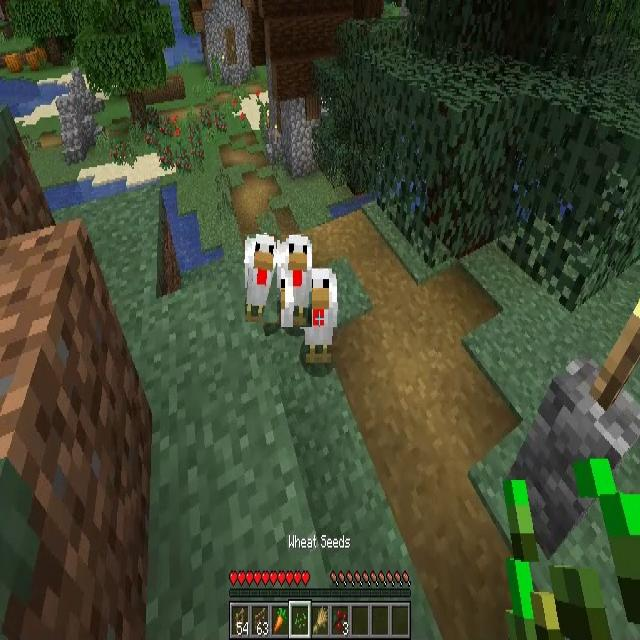duck: (299, 270, 337, 364), (245, 234, 278, 322), (281, 235, 312, 327)
